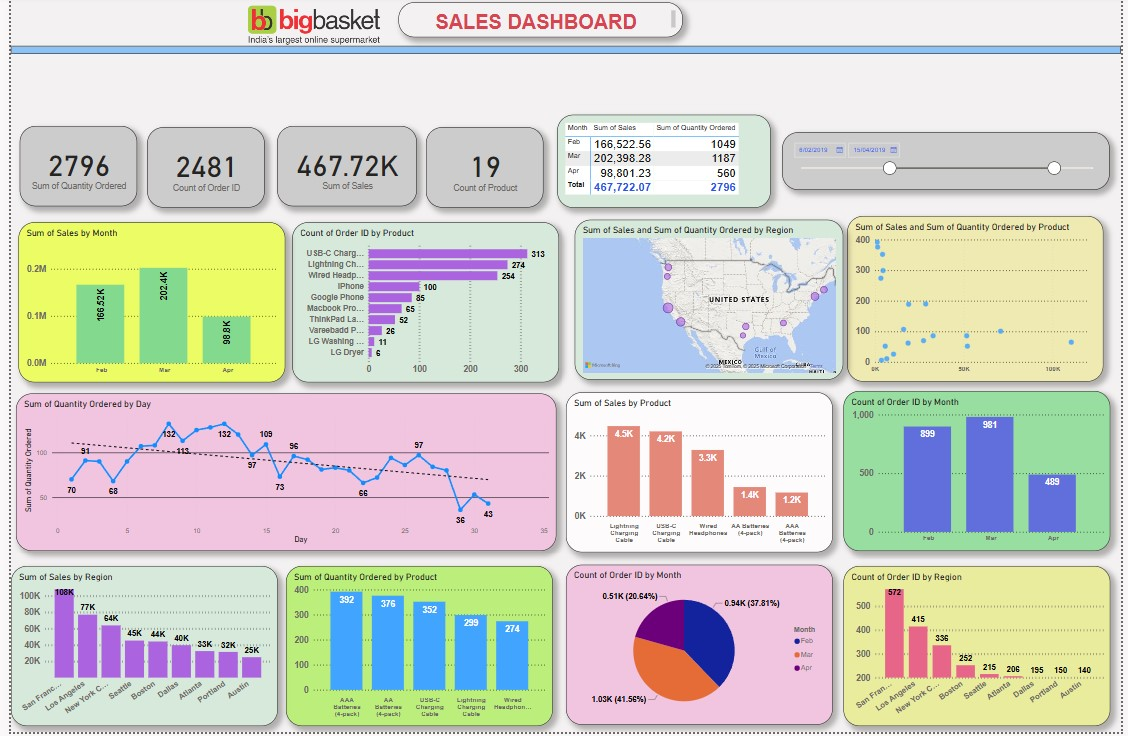

This screenshot's page, from the dashboard's own definition file:
{"tool":"powerbi","page":{"name":"Page 1","canvas":[2080,1380],"ordinal":0},"visuals":[{"type":"columnChart","fields":{"Category":["Data-Sets.Product"],"Y":["Sum(Data-Sets.Quantity Ordered)"]},"box":[515,1067.5,500,300],"z":0},{"type":"columnChart","fields":{"Y":["CountNonNull(Data-Sets.Order ID)"],"Category":["Data-Sets.Region"]},"box":[1560,1068.3,500,300],"z":1000},{"type":"pieChart","fields":{"Category":["Date Master.Month"],"Y":["CountNonNull(Data-Sets.Order ID)"]},"box":[1040,1066.7,500,300],"z":2000},{"type":"lineChart","fields":{"Y":["Sum(Data-Sets.Quantity Ordered)"],"Category":["Date Master.Date.Variation.Date Hierarchy.Day"]},"box":[10,745,1012.5,295],"z":3000},{"type":"columnChart","fields":{"Category":["Data-Sets.Product"],"Y":["Sum(Data-Sets.Sales)"]},"box":[1040,741.7,500,300],"z":4000},{"type":"columnChart","fields":{"Category":["Data-Sets.Region"],"Y":["Sum(Data-Sets.Sales)"]},"box":[0,1067.5,500,300],"z":5000},{"type":"clusteredBarChart","fields":{"Category":["Data-Sets.Product"],"Y":["Count(Data-Sets.Order ID)"]},"box":[528.3,423.3,500,300],"z":6000},{"type":"columnChart","fields":{"Y":["Sum(Data-Sets.Sales)"],"Category":["Date Master.Month"]},"box":[15,423.3,500,300],"z":7000},{"type":"columnChart","fields":{"Category":["Date Master.Month"],"Y":["Count(Data-Sets.Order ID)"]},"box":[1560,740,500,300],"z":8000},{"type":"scatterChart","fields":{"X":["Sum(Data-Sets.Sales)"],"Y":["Sum(Data-Sets.Quantity Ordered)"],"Category":["Data-Sets.Product"]},"box":[1568.3,413.3,480,310],"z":9000},{"type":"pivotTable","fields":{"Rows":["Date Master.Month"],"Values":["Sum(Data-Sets.Sales)","Sum(Data-Sets.Quantity Ordered)"]},"box":[1022.9,221.4,400,174.3],"z":10000},{"type":"map","fields":{"Category":["Data-Sets.Region"],"Size":["Sum(Data-Sets.Sales)"]},"box":[1056.7,418.3,503.3,300],"z":11000},{"type":"card","fields":{"Values":["Sum(Data-Sets.Sales)"]},"box":[499,243.7,278.8,149.9],"z":12000},{"type":"card","fields":{"Values":["CountNonNull(Data-Sets.Order ID)"]},"box":[255.7,245.7,220,150],"z":13000},{"type":"card","fields":{"Values":["Sum(Data-Sets.Quantity Ordered)"]},"box":[15.7,244.3,220,150],"z":14000},{"type":"textbox","box":[725.5,12.7,532.7,65.5],"z":15000},{"type":"card","fields":{"Values":["Count(Data-Sets.Product)"]},"box":[794.3,246,203.8,149.9],"z":16000},{"type":"slicer","fields":{"Values":["Date Master.Date Hierarchy.Date"]},"box":[1446.7,255,613.3,108.3],"z":17000},{"type":"shape","box":[0,94,2080,14],"z":18000},{"type":"image","box":[385.7,0,360,108.6],"z":19000}]}

Visuals, with their boxes in screenshot pixels (x1, y1, x2, y2), scaled from the page's 2080x1380 canvas onto the 1128x736 screenshot:
columnChart - Data-Sets.Product x Sum(Data-Sets.Quantity Ordered): <box>279,569,550,729</box>
columnChart - CountNonNull(Data-Sets.Order ID) x Data-Sets.Region: <box>846,570,1117,730</box>
pieChart - Date Master.Month x CountNonNull(Data-Sets.Order ID): <box>564,569,835,729</box>
lineChart - Sum(Data-Sets.Quantity Ordered) x Date Master.Date.Variation.Date Hierarchy.Day: <box>5,397,555,555</box>
columnChart - Data-Sets.Product x Sum(Data-Sets.Sales): <box>564,396,835,556</box>
columnChart - Data-Sets.Region x Sum(Data-Sets.Sales): <box>0,569,271,729</box>
clusteredBarChart - Data-Sets.Product x Count(Data-Sets.Order ID): <box>287,226,558,386</box>
columnChart - Sum(Data-Sets.Sales) x Date Master.Month: <box>8,226,279,386</box>
columnChart - Date Master.Month x Count(Data-Sets.Order ID): <box>846,395,1117,555</box>
scatterChart - Sum(Data-Sets.Sales) x Sum(Data-Sets.Quantity Ordered): <box>851,220,1111,386</box>
pivotTable - Date Master.Month x Sum(Data-Sets.Sales): <box>555,118,772,211</box>
map - Data-Sets.Region x Sum(Data-Sets.Sales): <box>573,223,846,383</box>
card - Sum(Data-Sets.Sales): <box>271,130,422,210</box>
card - CountNonNull(Data-Sets.Order ID): <box>139,131,258,211</box>
card - Sum(Data-Sets.Quantity Ordered): <box>9,130,128,210</box>
textbox: <box>393,7,682,42</box>
card - Count(Data-Sets.Product): <box>431,131,541,211</box>
slicer - Date Master.Date Hierarchy.Date: <box>785,136,1117,194</box>
shape: <box>0,50,1127,58</box>
image: <box>209,0,404,58</box>
